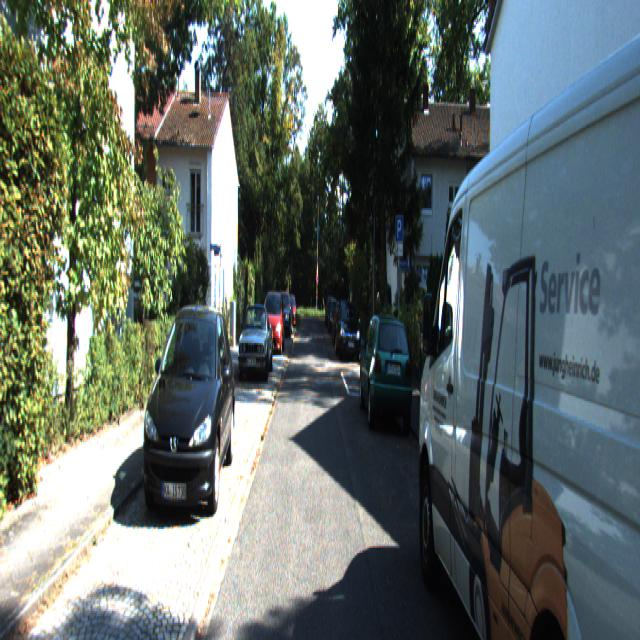Car: (414, 0, 639, 639), (140, 303, 236, 540), (360, 313, 416, 440), (237, 301, 272, 380), (336, 297, 362, 362), (262, 288, 284, 354)
